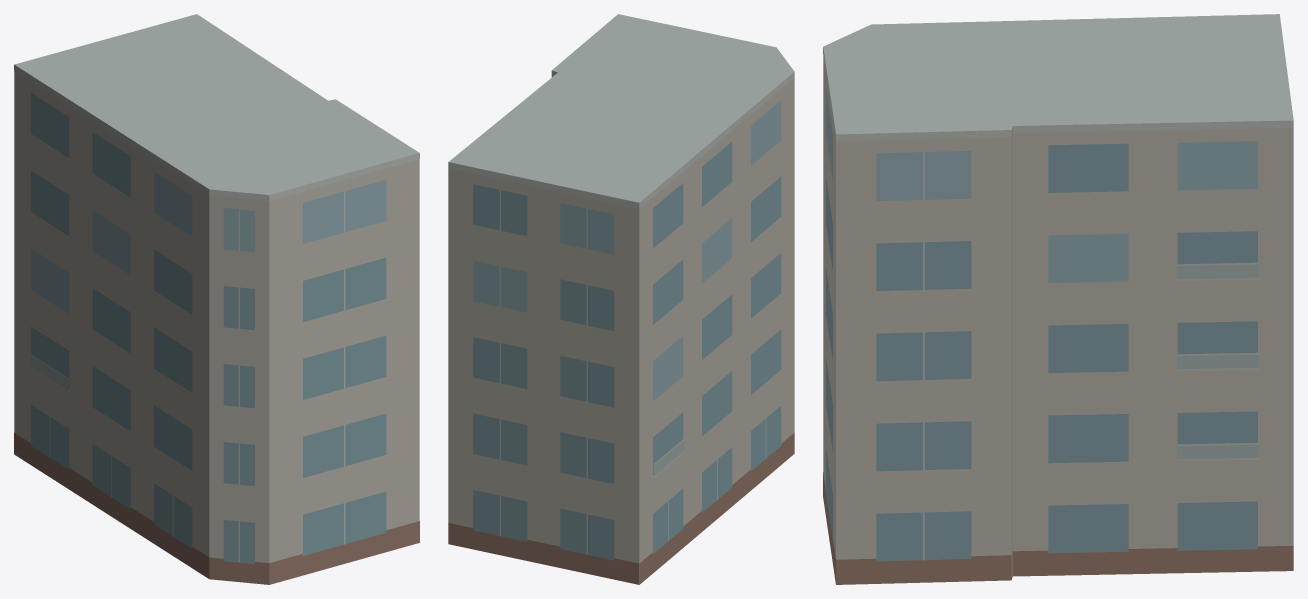
The model's file is survey-upis-32705612.glb.
3 views of the same model, side by side, from view 1: azimuth 30°, elevation 25°; view 2: azimuth 150°, elevation 25°; view 3: azimuth 270°, elevation 25° (orthographic). The views are drawn at different scales.
Parts seen in each view (by area): view 1: survey-upis-32705612.tmp; view 2: survey-upis-32705612.tmp; view 3: survey-upis-32705612.tmp.
Part boxes in pixels (left/top/right/bottom): survey-upis-32705612.tmp: left=14, top=14, right=419, bottom=584; survey-upis-32705612.tmp: left=448, top=14, right=794, bottom=584; survey-upis-32705612.tmp: left=823, top=14, right=1293, bottom=584.
Bounding box in the file's own units: 8.9 × 15.5 × 14.69.
